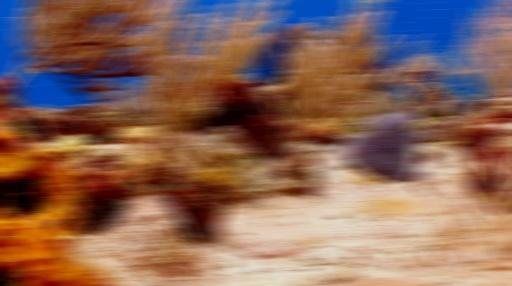Fish: (12, 114, 47, 142), (406, 116, 453, 131), (275, 100, 288, 111), (366, 0, 388, 3)
